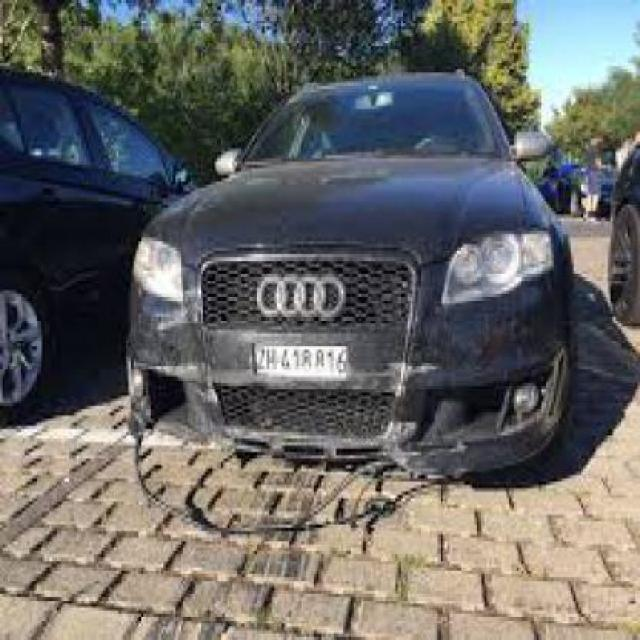damaged-front-bumper: (124, 327, 567, 478)
